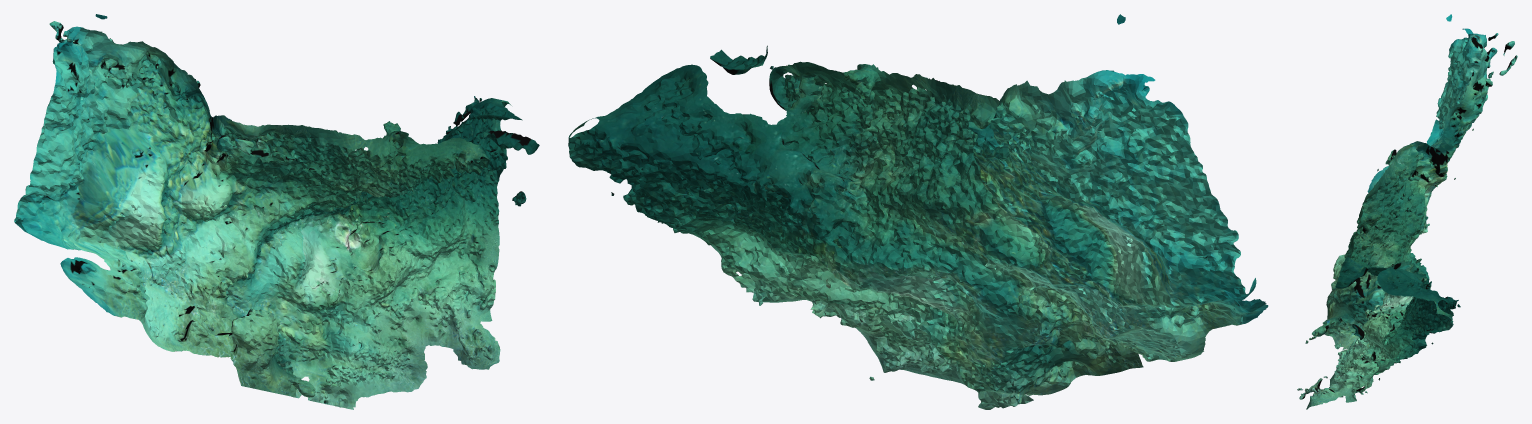
Rendered from sub akvo.obj.
3 views of the same model, side by side, from view 1: azimuth 30°, elevation 25°; view 2: azimuth 150°, elevation 25°; view 3: azimuth 270°, elevation 25° (orthographic). The views are drawn at different scales.
Size of the model in its own units: 12.25 by 9.04 by 6.06.
Materials: 1 (1 with a texture image).
